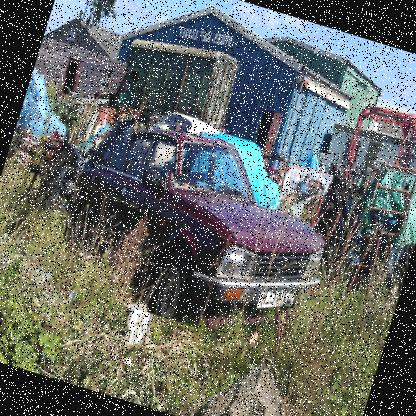Car: (46, 104, 350, 358), (158, 119, 294, 212), (123, 99, 221, 183), (8, 67, 84, 165)
